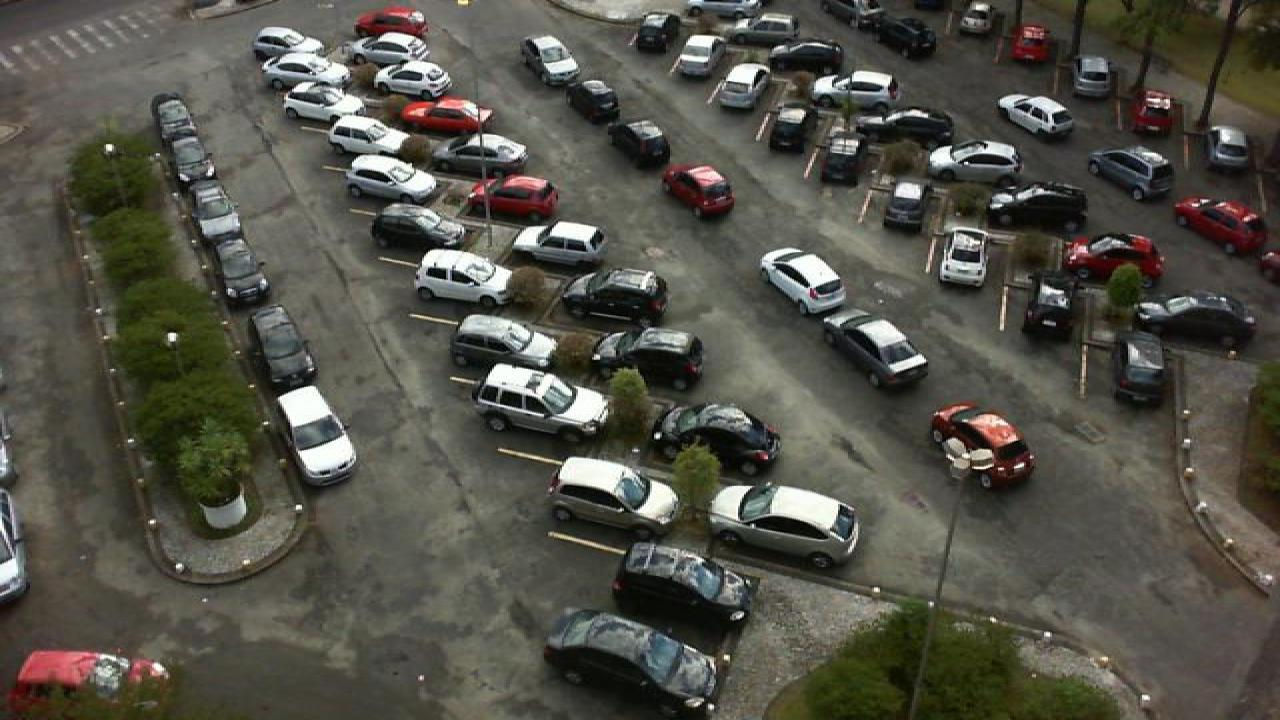Car: (542, 609, 724, 719), (608, 540, 754, 632), (708, 482, 862, 568), (8, 650, 176, 720), (544, 456, 686, 538), (472, 362, 612, 442), (650, 401, 784, 478), (930, 404, 1036, 492), (822, 310, 932, 390), (276, 385, 360, 489), (590, 325, 706, 393), (560, 266, 672, 330), (412, 248, 524, 310), (1138, 292, 1258, 348), (450, 313, 562, 372), (758, 248, 852, 318), (1170, 194, 1268, 256), (1064, 232, 1168, 290), (984, 181, 1090, 235), (248, 305, 316, 386), (368, 202, 470, 254), (510, 219, 608, 271), (464, 173, 562, 225), (1084, 145, 1176, 200), (344, 153, 442, 203), (924, 138, 1024, 185), (1112, 330, 1172, 407), (432, 132, 530, 178), (658, 163, 738, 219), (1020, 272, 1082, 342), (324, 114, 414, 162), (214, 238, 272, 308), (856, 105, 956, 145), (996, 92, 1076, 142), (278, 81, 368, 124), (262, 52, 352, 94), (864, 13, 940, 62), (374, 58, 456, 103), (398, 98, 494, 136), (188, 179, 242, 243), (806, 75, 892, 115), (936, 226, 988, 290), (522, 34, 582, 89), (250, 25, 332, 64), (882, 179, 936, 238), (612, 118, 674, 169), (348, 32, 434, 68), (760, 38, 844, 73), (566, 76, 622, 126), (148, 91, 200, 144), (354, 5, 432, 40), (166, 130, 216, 184), (714, 62, 766, 112), (824, 137, 866, 196), (764, 101, 812, 151), (1208, 124, 1256, 174), (672, 33, 724, 78), (1132, 88, 1178, 138), (1072, 54, 1116, 102), (632, 12, 680, 54), (820, 0, 886, 30), (1008, 22, 1050, 66), (742, 11, 798, 42), (954, 0, 998, 38), (684, 0, 764, 17)
